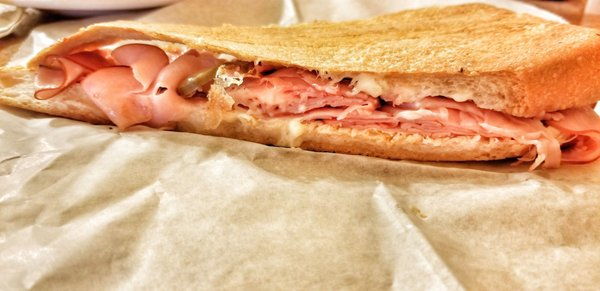soup: (86, 4, 600, 165)
